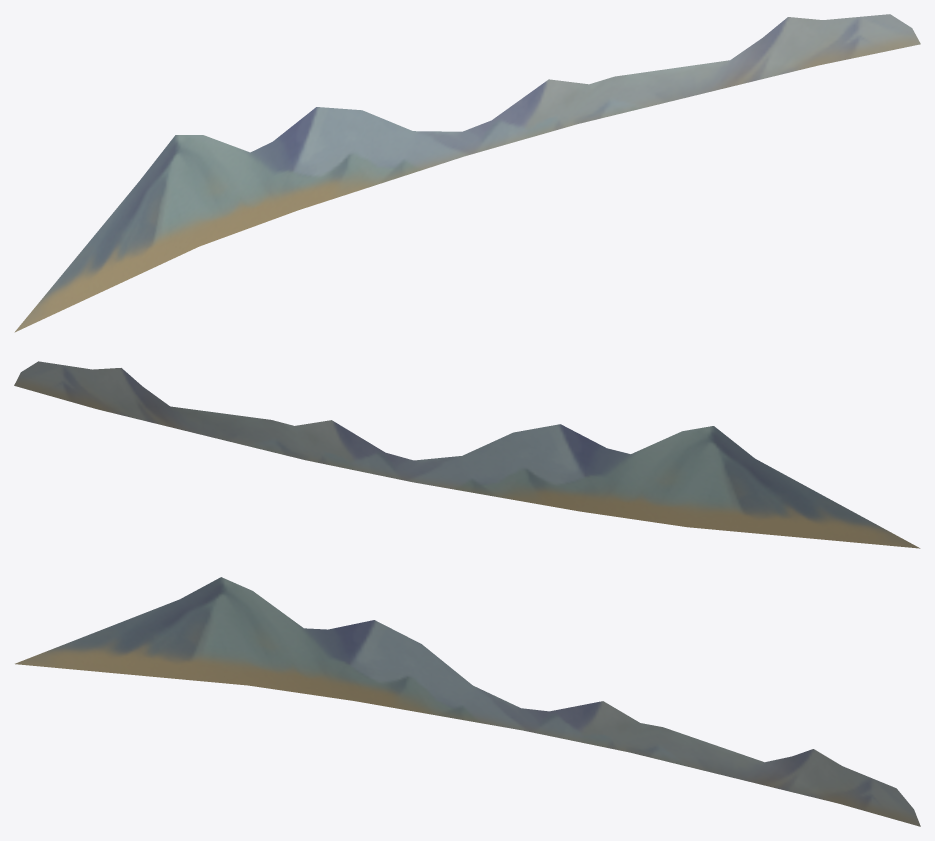
The model's file is sucai_12.FBX.
The picture shows the model from 3 angles, top to bottom: view 1: azimuth 30°, elevation 25°; view 2: azimuth 150°, elevation 25°; view 3: azimuth 330°, elevation 25°; orthographic projection. The views are drawn at different scales.
Visible parts, largest first — view 1: sucai_13; view 2: sucai_13; view 3: sucai_13.
Boxes of the visible parts, box(x1,y1,x2,y2) form: sucai_13: box(14, 14, 920, 332); sucai_13: box(14, 361, 920, 548); sucai_13: box(15, 577, 920, 826).
Bounding box in the file's own units: 864 × 102 × 114.
